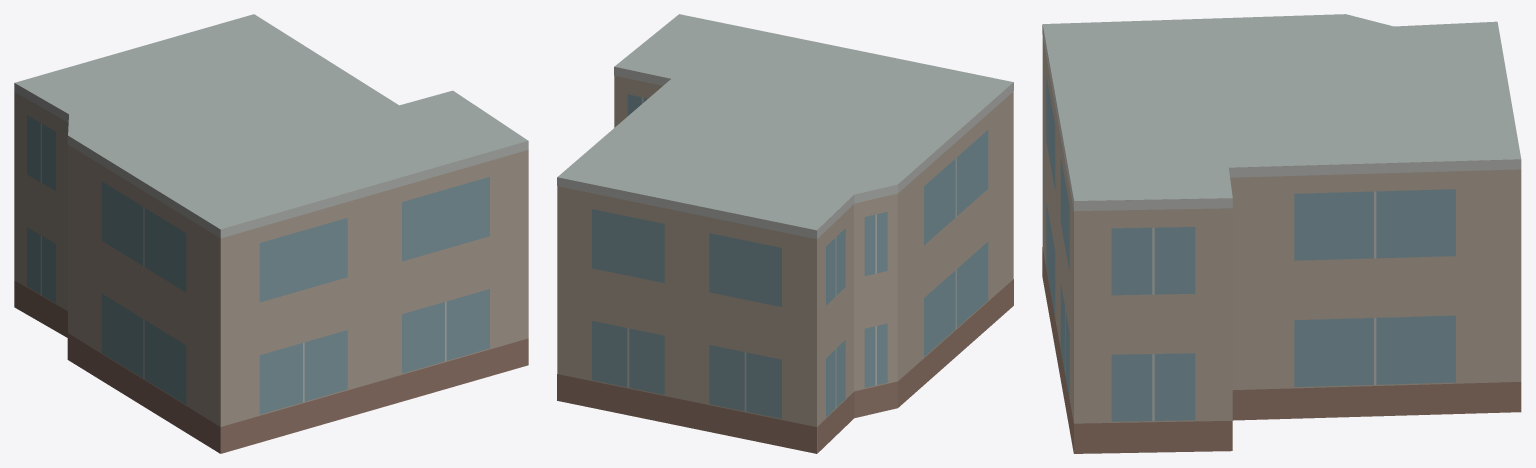
The model's file is survey-upis-32509371.glb.
3 views of the same model, side by side, from view 1: azimuth 30°, elevation 25°; view 2: azimuth 150°, elevation 25°; view 3: azimuth 270°, elevation 25° (orthographic). The views are drawn at different scales.
Parts seen in each view (by area): view 1: survey-upis-32509371.tmp; view 2: survey-upis-32509371.tmp; view 3: survey-upis-32509371.tmp.
Boxes of the visible parts, x1,y1,x2,y2 form: survey-upis-32509371.tmp: (14, 14, 528, 453); survey-upis-32509371.tmp: (557, 14, 1013, 453); survey-upis-32509371.tmp: (1042, 14, 1521, 453).
Bounding box in the file's own units: 9.69 × 6.1 × 10.48.
